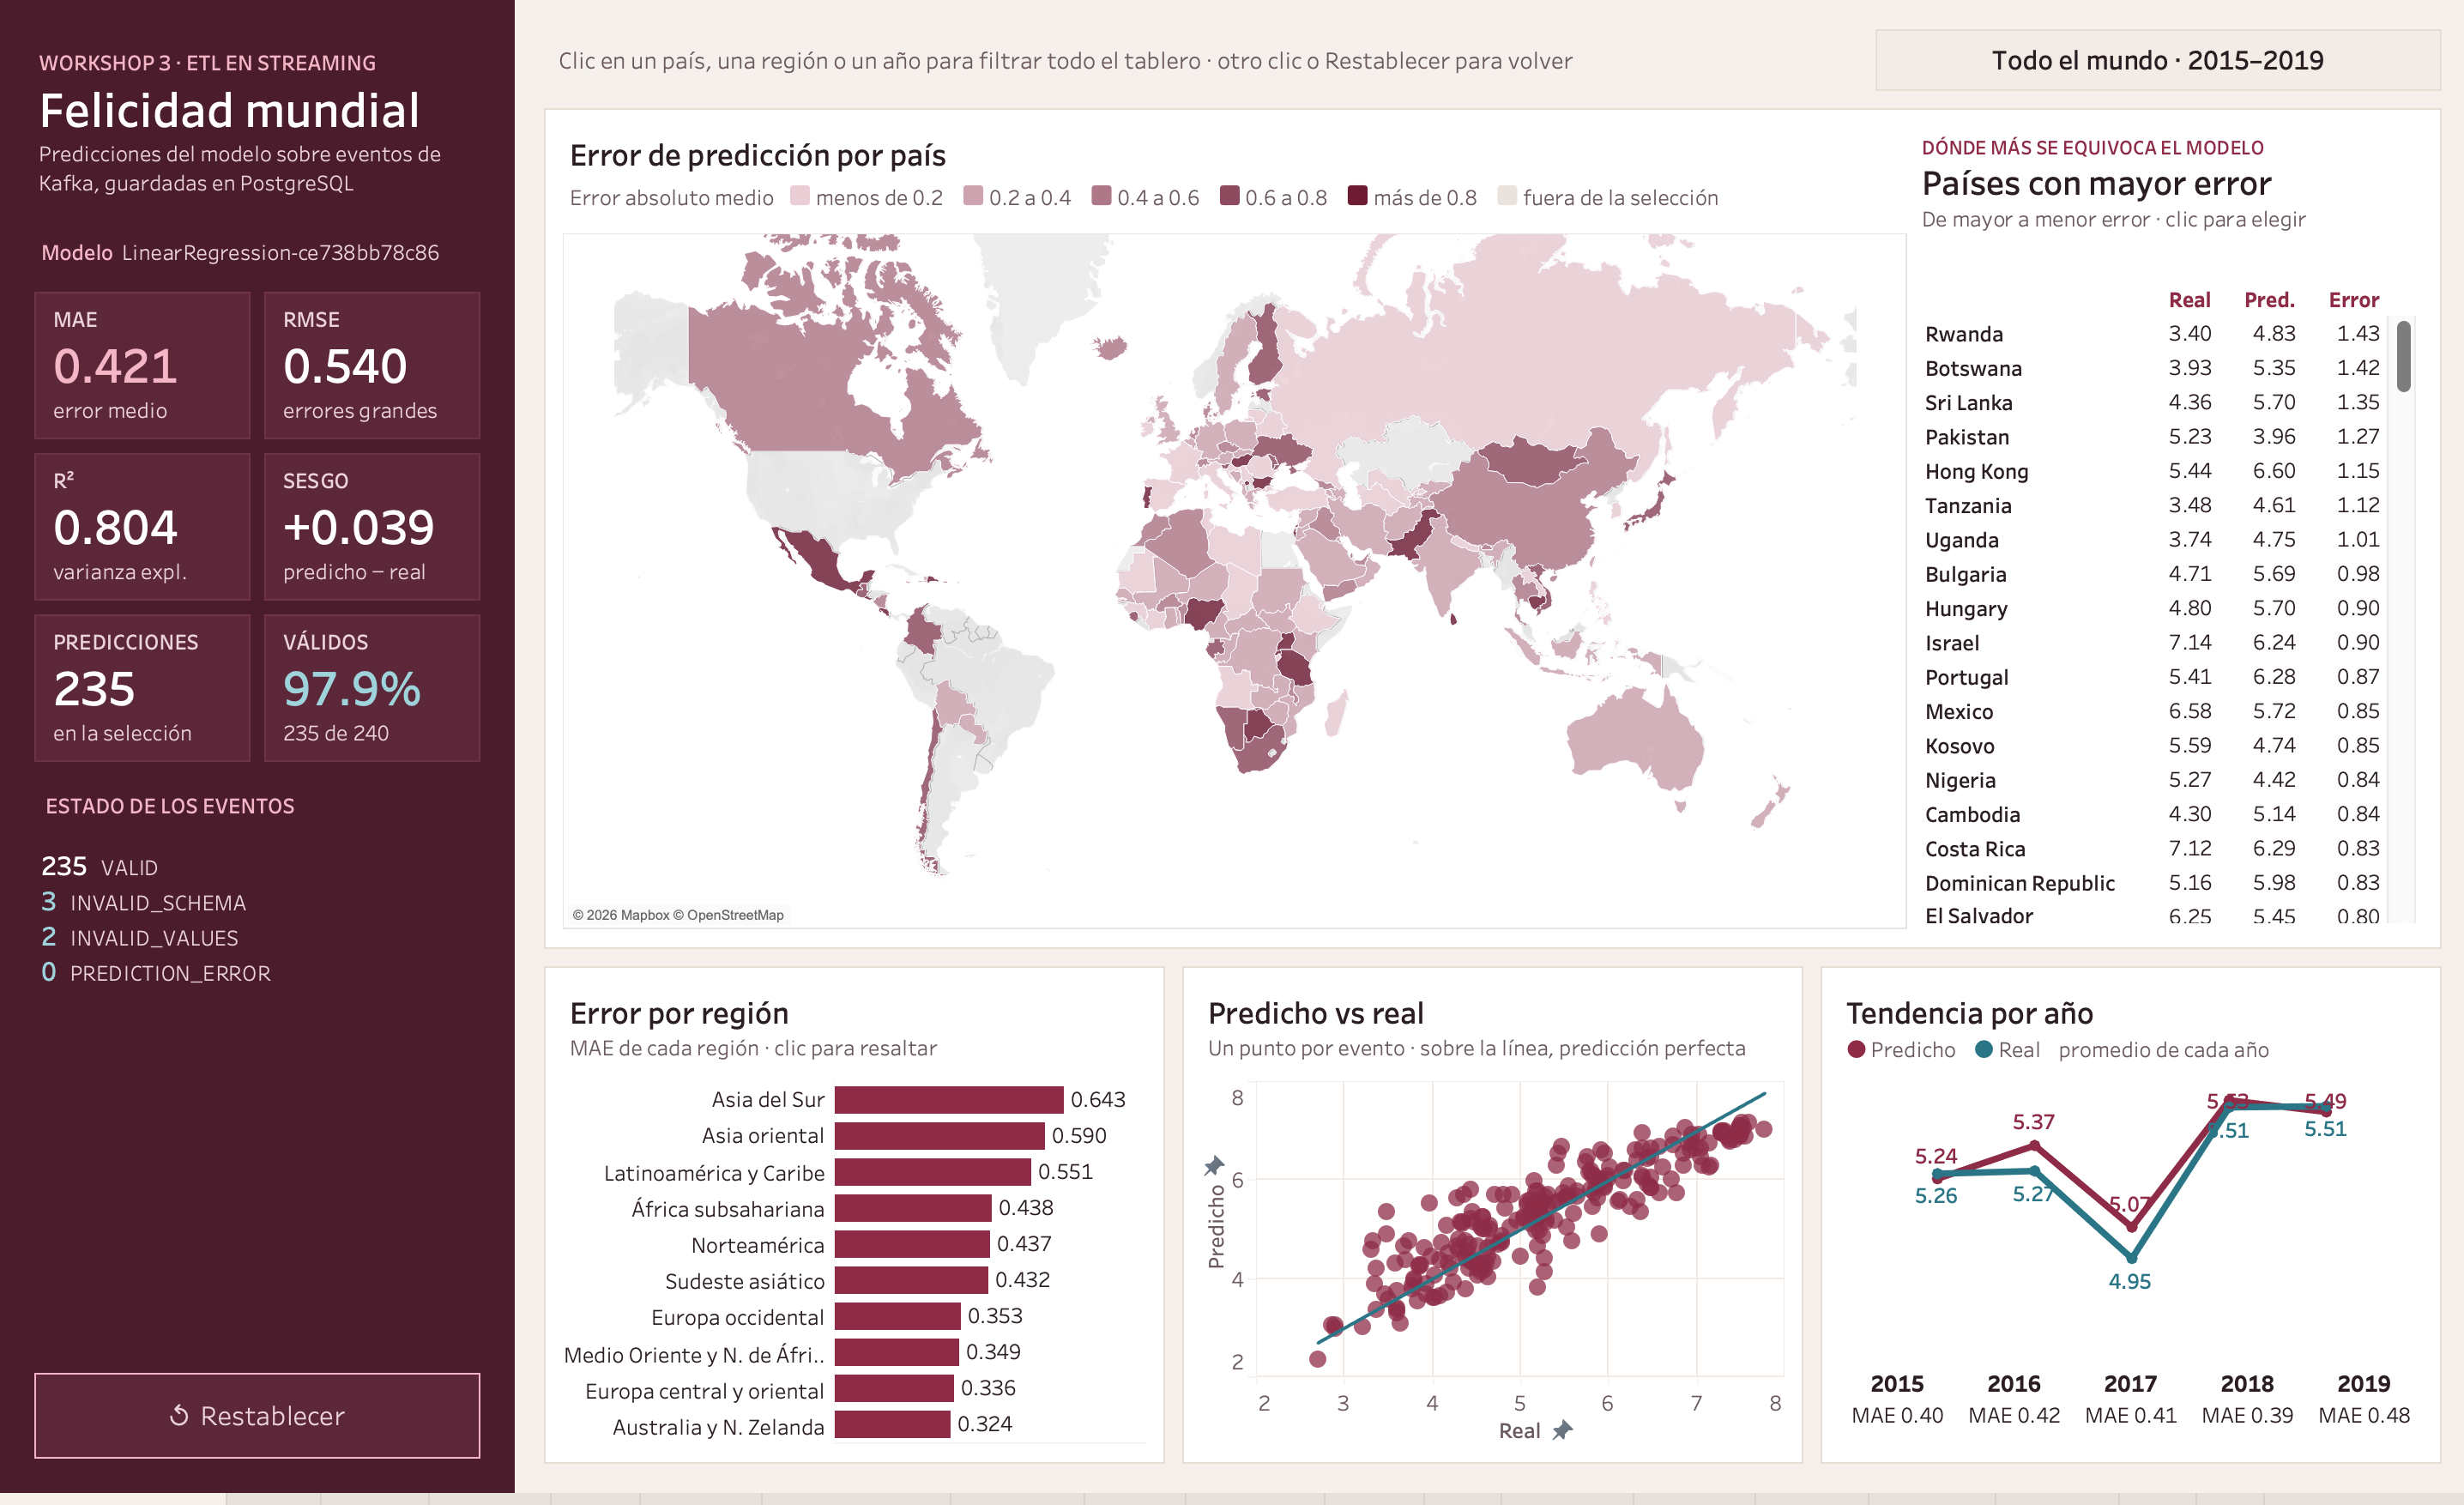

The dashboard page shown, as its layout file describes it:
{"tool":"tableau","page":{"name":"Felicidad mundial","canvas":[1000,1000],"units":"permille","ordinal":0},"visuals":[{"type":"text","box":[216.7,13.8,538.9,52.9]},{"type":"worksheet","title":"Alcance","mark":"Text","box":[755.6,13.8,236.1,52.9]},{"type":"text","box":[11.1,18.4,186.1,128.7]},{"type":"worksheet","title":"Mapa","mark":"Multipolygon","box":[227.8,85,544.5,537.9]},{"type":"worksheet","title":"Ficha titulo","mark":"Text","box":[775,89.7,202.8,98.9]},{"type":"worksheet","title":"Modelo","mark":"Text","box":[11.1,147.1,186.1,43.7]},{"type":"worksheet","title":"Ficha lista","mark":"Text","rows":["Calculation_5300000000000023"],"box":[775,188.5,202.8,429.9]},{"type":"worksheet","title":"KPI MAE","mark":"Text","box":[11.1,190.8,93.1,108]},{"type":"worksheet","title":"KPI RMSE","mark":"Text","box":[104.2,190.8,93,108]},{"type":"worksheet","title":"KPI R2","mark":"Text","box":[11.1,298.9,93.1,108]},{"type":"worksheet","title":"KPI Sesgo","mark":"Text","box":[104.2,298.9,93,108]},{"type":"worksheet","title":"KPI Predicciones","mark":"Text","box":[11.1,406.9,93.1,108]},{"type":"worksheet","title":"KPI Validos","mark":"Text","box":[104.2,406.9,93,108]},{"type":"text","box":[11.1,515,186.1,48.3]},{"type":"worksheet","title":"Estados","mark":"Text","box":[11.1,563.2,186.1,119.5]},{"type":"worksheet","title":"Regiones","mark":"Bar","rows":["Calculation_5300000000000001"],"cols":["Calculation_5300000000000035"],"box":[216.7,641.4,258.3,344.8]},{"type":"worksheet","title":"Dispersion","mark":"Automatic","rows":["predicted_score","Calculation_5300000000000046"],"cols":["actual_score"],"box":[475,641.4,258.3,344.8]},{"type":"worksheet","title":"Tendencia","mark":"Automatic","rows":["Calculation_5300000000000062","Calculation_5300000000000061"],"cols":["year"],"box":[744.4,659.8,236.1,255.2]},{"type":"blank","box":[11.1,682.8,186.1,232.2]},{"type":"worksheet","title":"Restablecer","mark":"Text","box":[11.1,914.9,186.1,66.7]},{"type":"worksheet","title":"Anios","mark":"Text","cols":["Calculation_5300000000000003"],"box":[744.4,915,236.1,52.9]}]}

Visuals, with their boxes on the dashboard's canvas, which has no fixed pixel size, in thousandths of its width and height (x1, y1, x2, y2). These are canvas units, not pixel positions in the 2464x1505 screenshot, which may show the page scaled, cropped or inside an application window:
text: x1=217, y1=14, x2=756, y2=67
"Alcance" worksheet (Text marks): x1=756, y1=14, x2=992, y2=67
text: x1=11, y1=18, x2=197, y2=147
"Mapa" worksheet (Multipolygon marks): x1=228, y1=85, x2=772, y2=623
"Ficha titulo" worksheet (Text marks): x1=775, y1=90, x2=978, y2=189
"Modelo" worksheet (Text marks): x1=11, y1=147, x2=197, y2=191
"Ficha lista" worksheet (Text marks): x1=775, y1=188, x2=978, y2=618
"KPI MAE" worksheet (Text marks): x1=11, y1=191, x2=104, y2=299
"KPI RMSE" worksheet (Text marks): x1=104, y1=191, x2=197, y2=299
"KPI R2" worksheet (Text marks): x1=11, y1=299, x2=104, y2=407
"KPI Sesgo" worksheet (Text marks): x1=104, y1=299, x2=197, y2=407
"KPI Predicciones" worksheet (Text marks): x1=11, y1=407, x2=104, y2=515
"KPI Validos" worksheet (Text marks): x1=104, y1=407, x2=197, y2=515
text: x1=11, y1=515, x2=197, y2=563
"Estados" worksheet (Text marks): x1=11, y1=563, x2=197, y2=683
"Regiones" worksheet (Bar marks): x1=217, y1=641, x2=475, y2=986
"Dispersion" worksheet: x1=475, y1=641, x2=733, y2=986
"Tendencia" worksheet: x1=744, y1=660, x2=980, y2=915
blank: x1=11, y1=683, x2=197, y2=915
"Restablecer" worksheet (Text marks): x1=11, y1=915, x2=197, y2=982
"Anios" worksheet (Text marks): x1=744, y1=915, x2=980, y2=968
